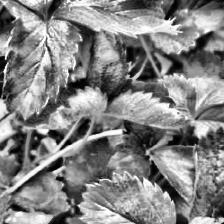Powdery Mildew Leaf: (100, 90, 192, 130), (36, 85, 108, 131)
